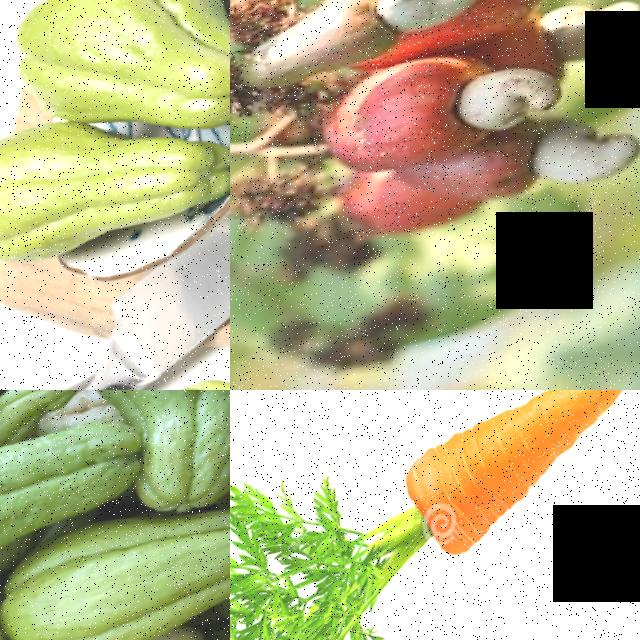carrot: (288, 390, 640, 627)
cashew: (531, 110, 640, 197), (451, 61, 573, 137), (539, 0, 640, 76), (377, 0, 500, 30)
chayote: (0, 108, 223, 300), (0, 473, 230, 640), (0, 390, 144, 604), (0, 0, 230, 133), (58, 390, 230, 515)
